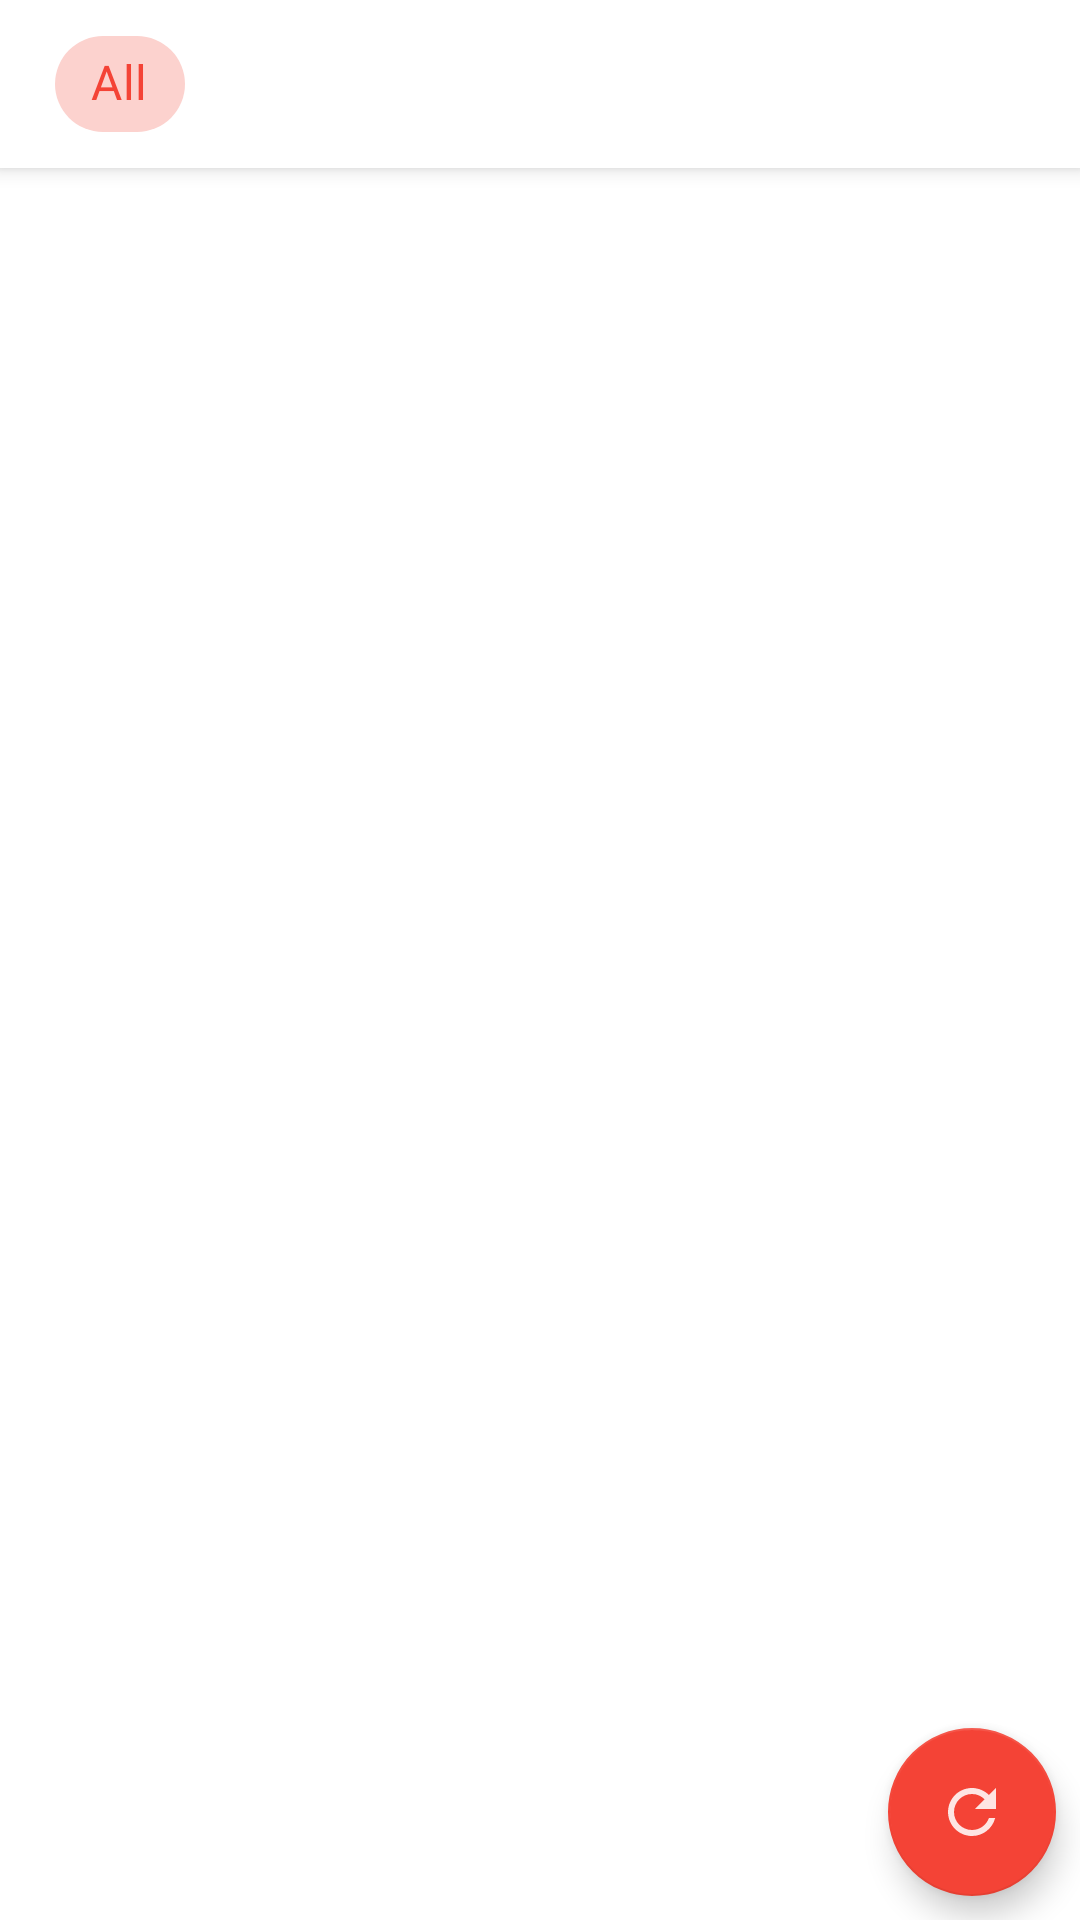

Named icons in this screenshot (1080 × 1920) and their centers, (x,y):
refresh: (972,1812)
